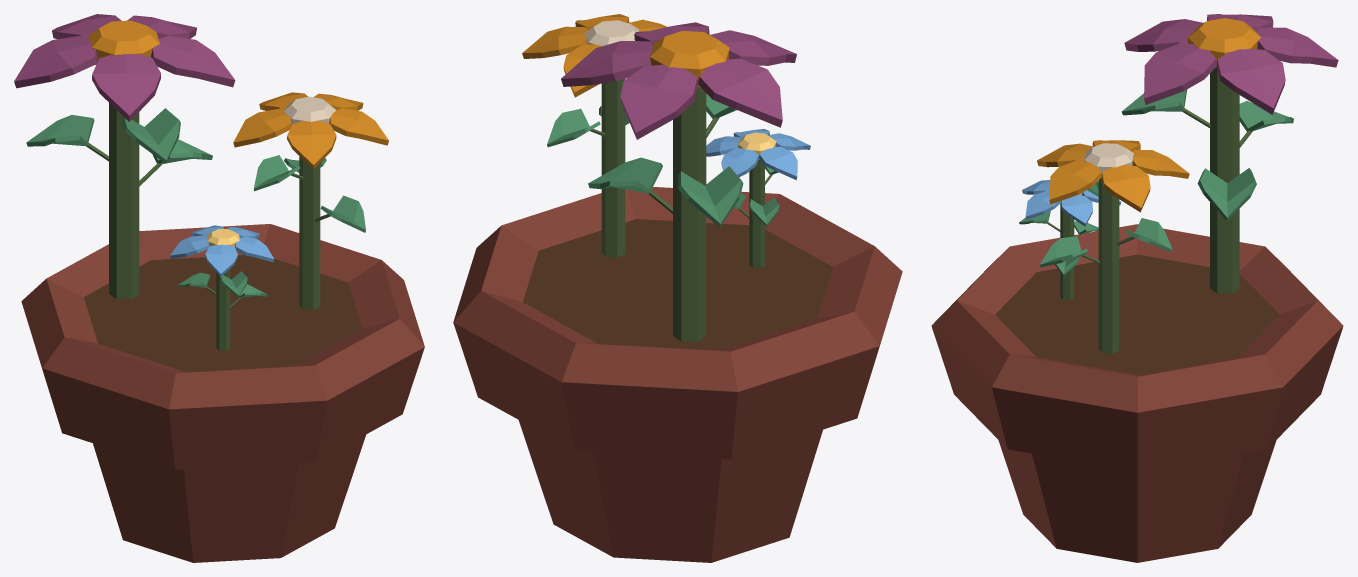
The model's file is Triple Flower.fbx.
3 views of the same model, side by side, from view 1: azimuth 30°, elevation 25°; view 2: azimuth 150°, elevation 25°; view 3: azimuth 270°, elevation 25° (orthographic). The views are drawn at different scales.
Visible parts, largest first — view 1: Triple Flower; view 2: Triple Flower; view 3: Triple Flower.
Part boxes in pixels (x1,y1,x2,y2): Triple Flower: (14,14,424,562); Triple Flower: (453,14,902,562); Triple Flower: (931,14,1343,562).
Bounding box in the file's own units: 0.2782 × 0.3422 × 0.2782.
